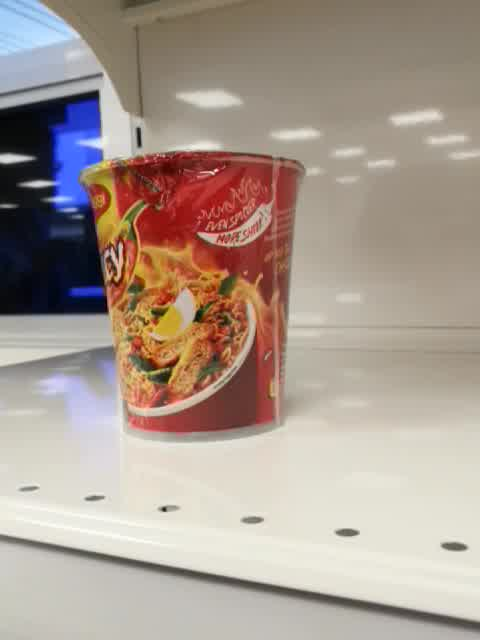maggi: (77, 149, 307, 444)
